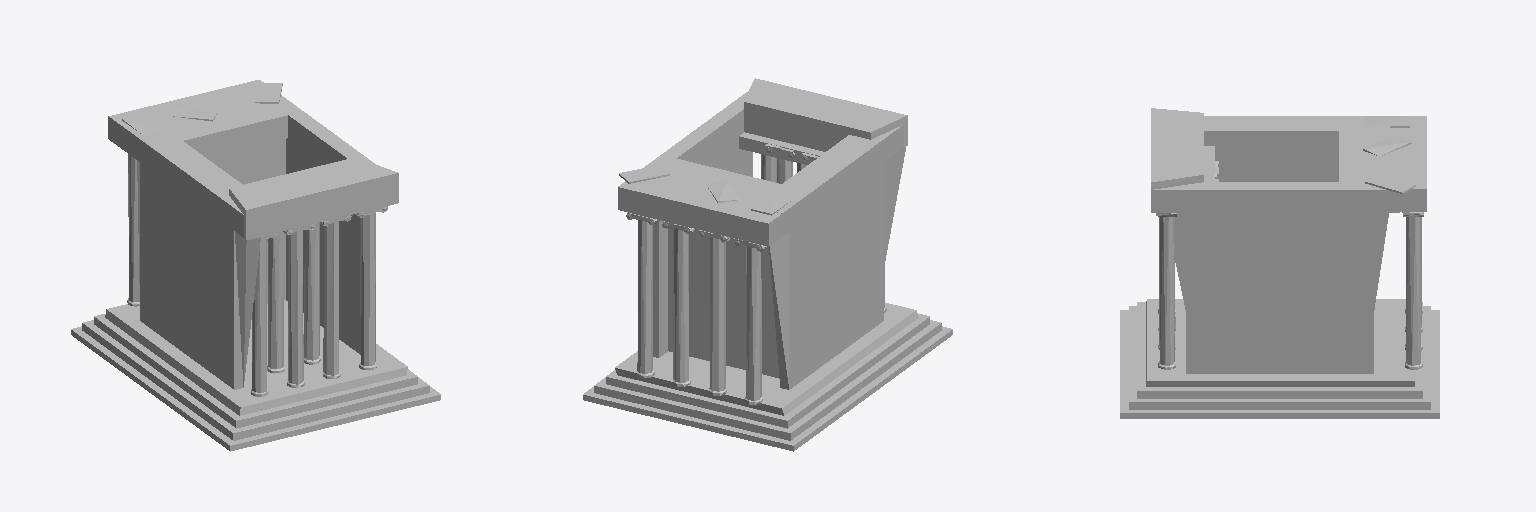
File: nike.obj
3 renders of one model, left to right at view 1: azimuth 30°, elevation 25°; view 2: azimuth 150°, elevation 25°; view 3: azimuth 270°, elevation 25°, orthographic.
Parts seen in each view (by area): view 1: Cylinder27; view 2: Cylinder27; view 3: Cylinder27.
Boxes of the visible parts, box(x1,y1,x2,y2) form: Cylinder27: box(71, 80, 440, 451); Cylinder27: box(583, 78, 952, 451); Cylinder27: box(1120, 108, 1439, 418).
Size of the model in its own units: 75.27 by 76.01 by 98.65.